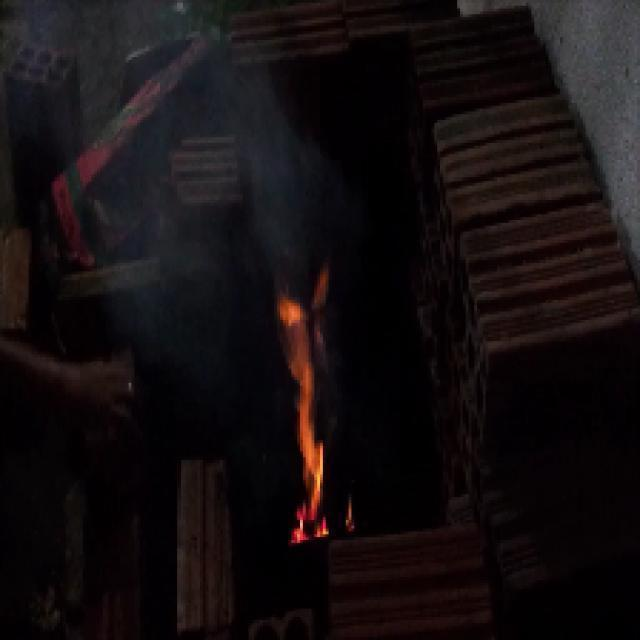fire: (52, 4, 320, 332)
smoke: (262, 268, 364, 546)
